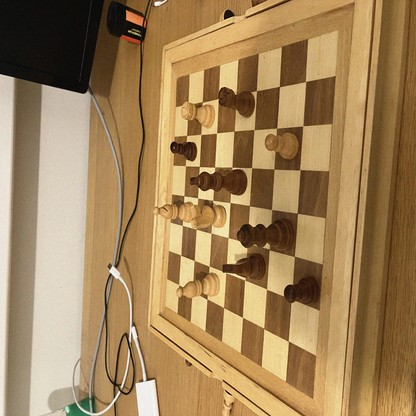bishop_white: (153, 200, 195, 224), (177, 274, 220, 297)
king_black: (191, 172, 247, 194)
knight_black: (223, 255, 268, 279)
knight_white: (191, 205, 227, 227)
pawn_black: (286, 276, 320, 303), (170, 141, 197, 160)
pawn_white: (267, 131, 299, 160), (223, 391, 236, 414)
queen_black: (238, 219, 295, 252)
rock_black: (219, 86, 254, 117)
rock_white: (181, 102, 214, 126)
